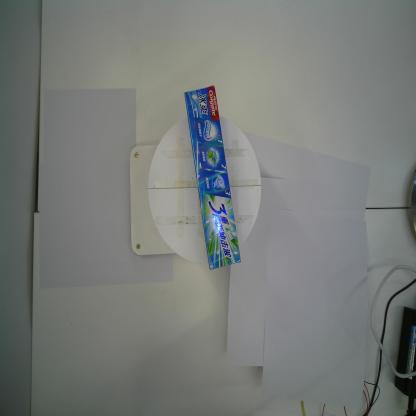Personal Hygiene: (184, 86, 241, 270)
